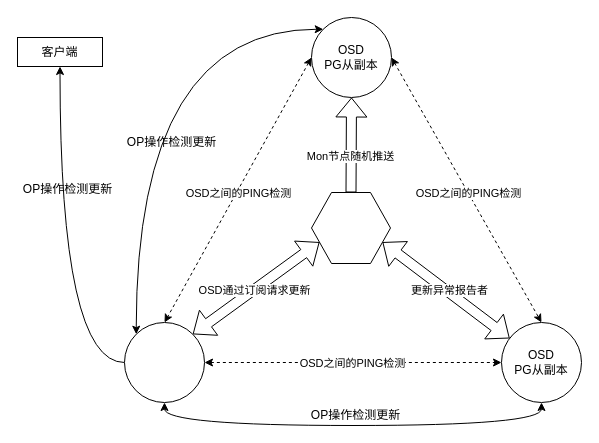
Image size: 599x443. Some labels were removed from this diagram. The centre of each missing label's shape, as x and y in pixels:
"Mon" goes at pixel 350 228.
"OSD PG主副本" goes at pixel 164 362.
